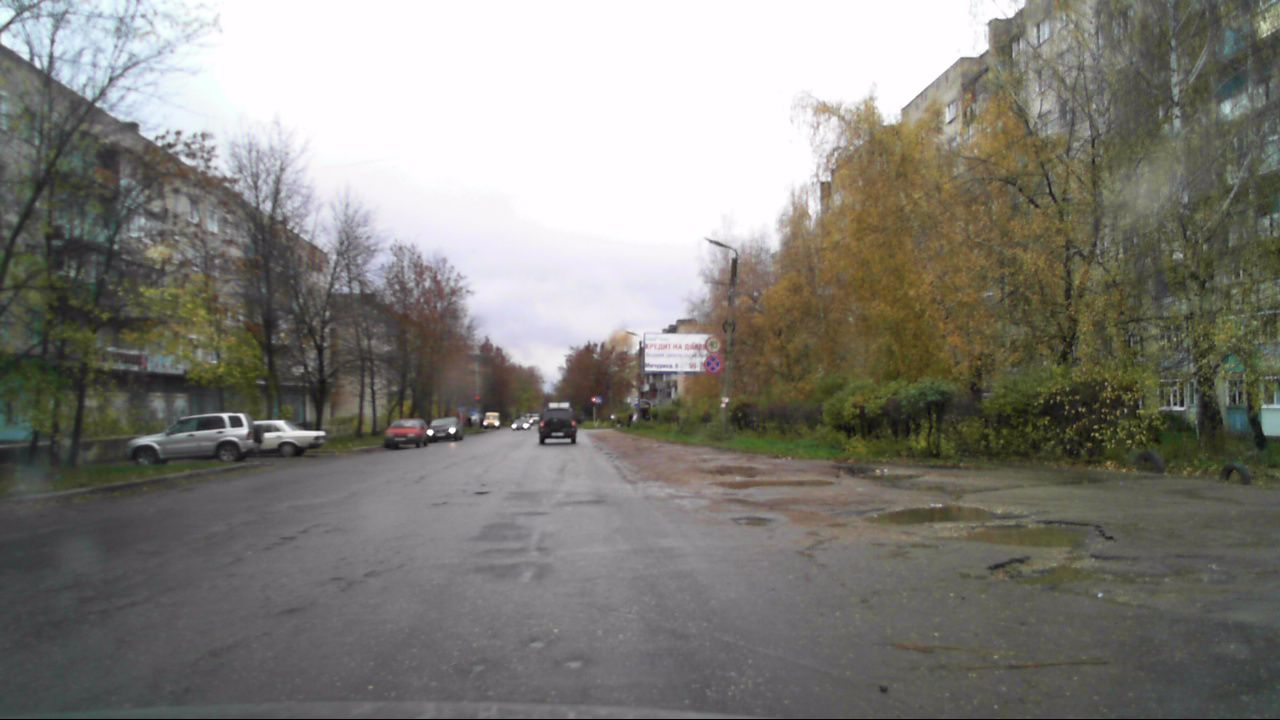No Parking: (701, 352, 722, 374)
speed_warning_40: (703, 334, 724, 353)
